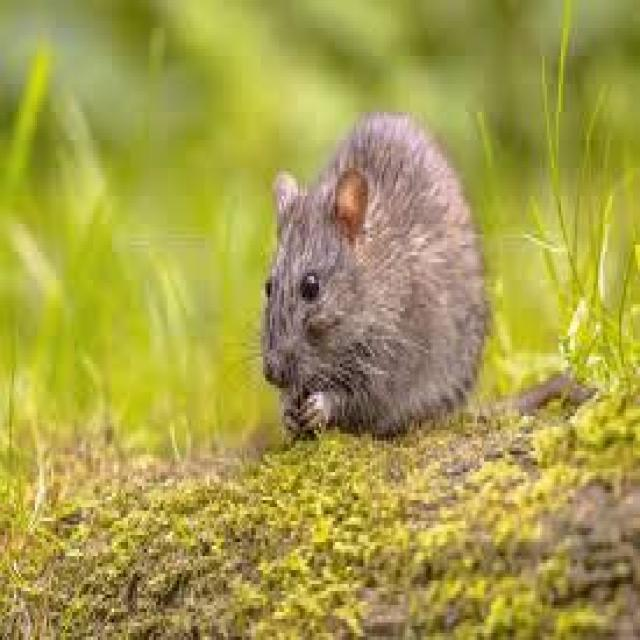rat: (256, 105, 491, 444)
